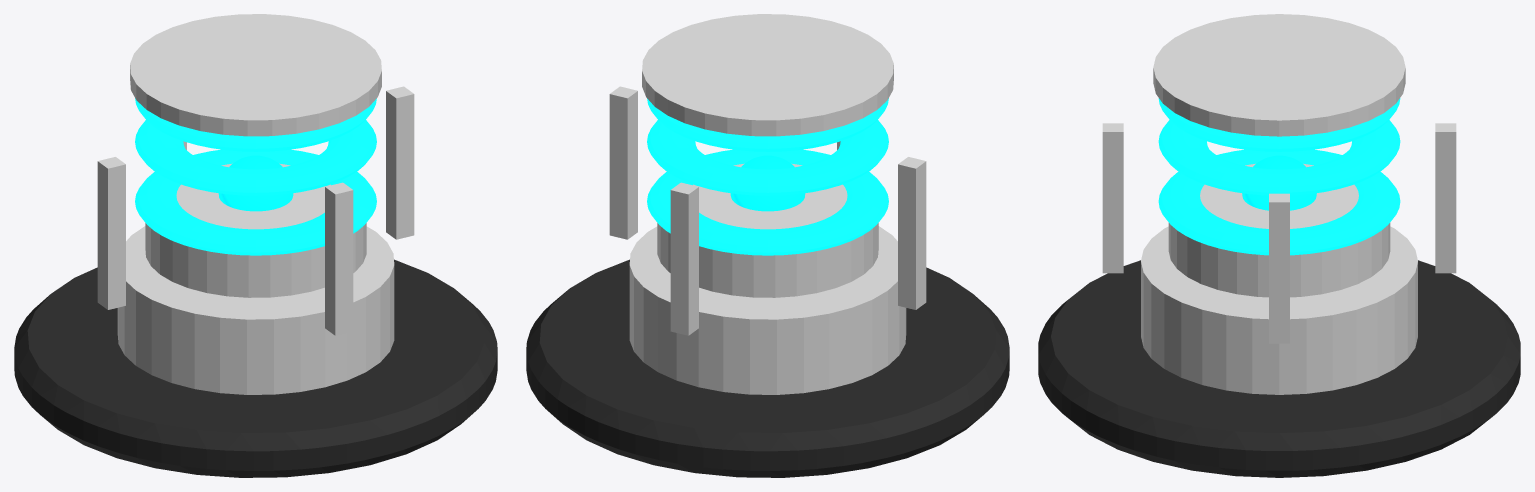
Rendered from AURA_Reactor_Final.glb.
3 renders of one model, left to right at view 1: azimuth 30°, elevation 25°; view 2: azimuth 150°, elevation 25°; view 3: azimuth 270°, elevation 25°, orthographic.
Visible parts, largest first — view 1: Cylinder, Reactor_Base, Top_Cap, core_chamber, Containment_Ring_01, Containment_Ring_02.001, Support_Pillar_01.003, Support_Pillar_01, Support_Pillar_01.002, Containment_Ring_02, Energy_Core; view 2: Cylinder, Reactor_Base, Top_Cap, core_chamber, Containment_Ring_01, Containment_Ring_02.001, Support_Pillar_01.001, Support_Pillar_01, Support_Pillar_01.002, Containment_Ring_02, Energy_Core; view 3: Cylinder, Reactor_Base, Top_Cap, core_chamber, Containment_Ring_01, Containment_Ring_02.001, Containment_Ring_02, Support_Pillar_01.001, Support_Pillar_01.003, Support_Pillar_01, Energy_Core.
Part boxes in pixels (bbox=[...]): Cylinder: bbox=[14, 259, 497, 477]; Reactor_Base: bbox=[117, 226, 394, 394]; Top_Cap: bbox=[130, 14, 381, 136]; core_chamber: bbox=[145, 163, 366, 297]; Containment_Ring_01: bbox=[135, 149, 376, 255]; Containment_Ring_02.001: bbox=[135, 120, 376, 195]; Support_Pillar_01.003: bbox=[325, 182, 353, 335]; Support_Pillar_01: bbox=[386, 86, 414, 239]; Support_Pillar_01.002: bbox=[97, 157, 125, 309]; Containment_Ring_02: bbox=[135, 98, 376, 151]; Energy_Core: bbox=[218, 155, 293, 211]; Cylinder: bbox=[526, 259, 1009, 477]; Reactor_Base: bbox=[629, 226, 906, 394]; Top_Cap: bbox=[642, 14, 893, 136]; core_chamber: bbox=[657, 163, 878, 297]; Containment_Ring_01: bbox=[647, 149, 888, 255]; Containment_Ring_02.001: bbox=[647, 120, 888, 195]; Support_Pillar_01.001: bbox=[670, 182, 698, 335]; Support_Pillar_01: bbox=[609, 86, 637, 239]; Support_Pillar_01.002: bbox=[898, 157, 926, 309]; Containment_Ring_02: bbox=[647, 98, 888, 151]; Energy_Core: bbox=[730, 155, 805, 211]; Cylinder: bbox=[1038, 260, 1520, 477]; Reactor_Base: bbox=[1141, 226, 1417, 394]; Top_Cap: bbox=[1153, 14, 1405, 136]; core_chamber: bbox=[1168, 163, 1390, 297]; Containment_Ring_01: bbox=[1158, 149, 1400, 255]; Containment_Ring_02.001: bbox=[1158, 120, 1400, 195]; Containment_Ring_02: bbox=[1158, 98, 1400, 151]; Support_Pillar_01.001: bbox=[1435, 123, 1456, 273]; Support_Pillar_01.003: bbox=[1102, 123, 1123, 273]; Support_Pillar_01: bbox=[1269, 193, 1289, 343]; Energy_Core: bbox=[1242, 155, 1316, 210].
Bounding box in the file's own units: 3.48 × 2.5 × 3.48.
